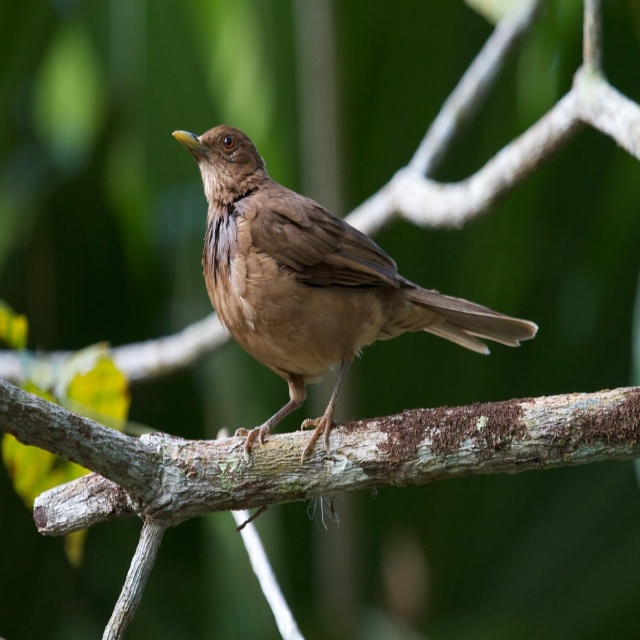Sparrow: (168, 121, 535, 465)
